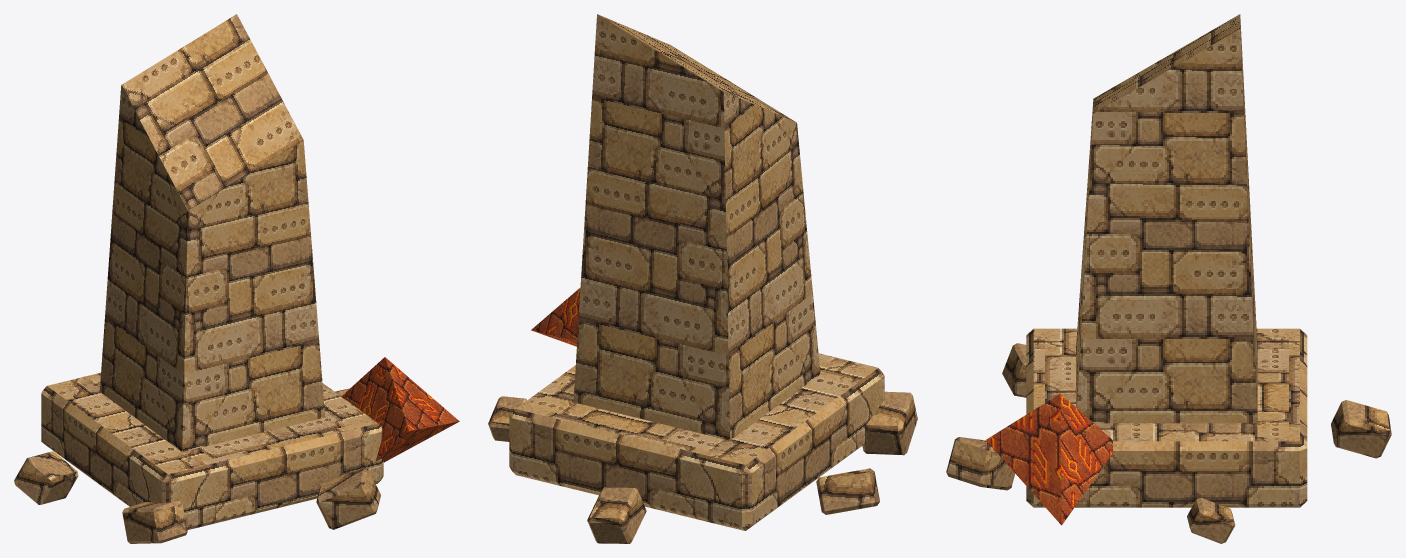
The model's file is ruins_obelisk_broken.glb.
The picture shows the model from 3 angles, left to right: view 1: azimuth 30°, elevation 25°; view 2: azimuth 150°, elevation 25°; view 3: azimuth 270°, elevation 25°; orthographic projection. The views are drawn at different scales.
Parts seen in each view (by area): view 1: BrokenObelisk; view 2: BrokenObelisk; view 3: BrokenObelisk.
Part boxes in pixels (x1=…): BrokenObelisk: x1=14, y1=14, x2=459, y2=543; BrokenObelisk: x1=488, y1=14, x2=917, y2=543; BrokenObelisk: x1=946, y1=14, x2=1391, y2=543.
Bounding box in the file's own units: 3.94 × 4.2 × 3.65.
Materials: 2 (2 with a texture image).
